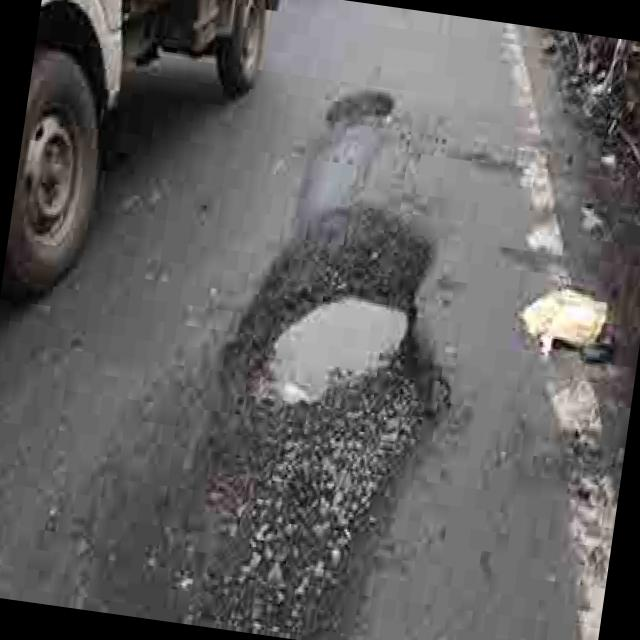Potholes: (223, 190, 451, 450), (319, 61, 425, 156)
